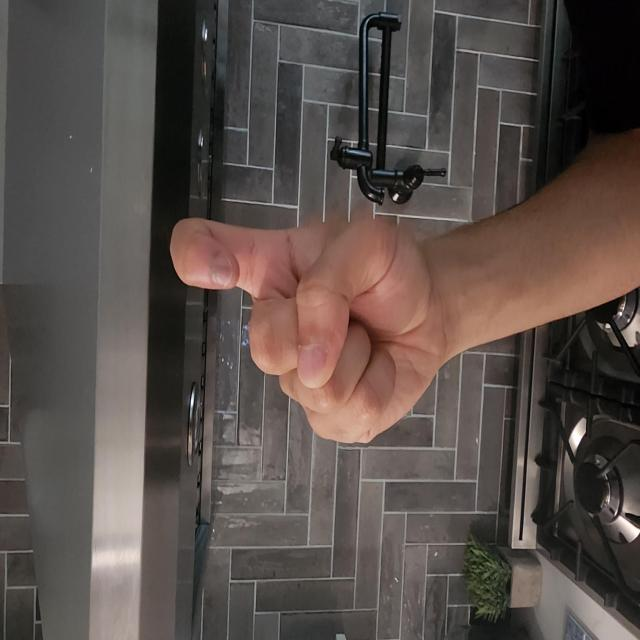X: (97, 176, 368, 596)
